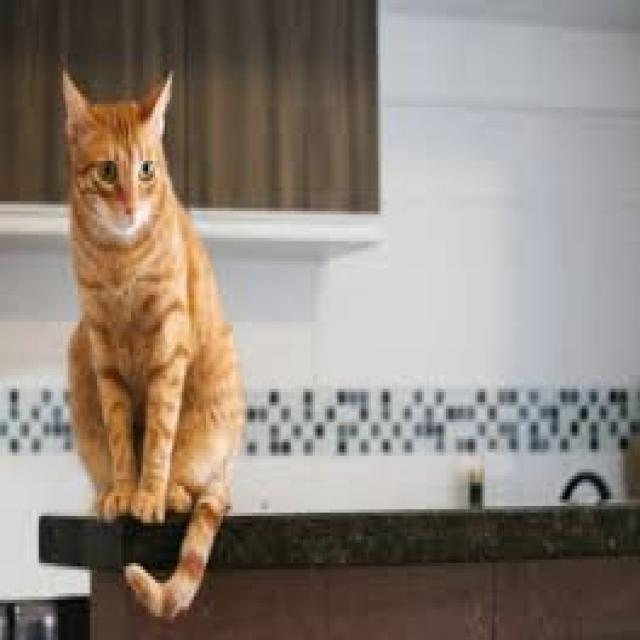cat: (65, 70, 245, 613)
